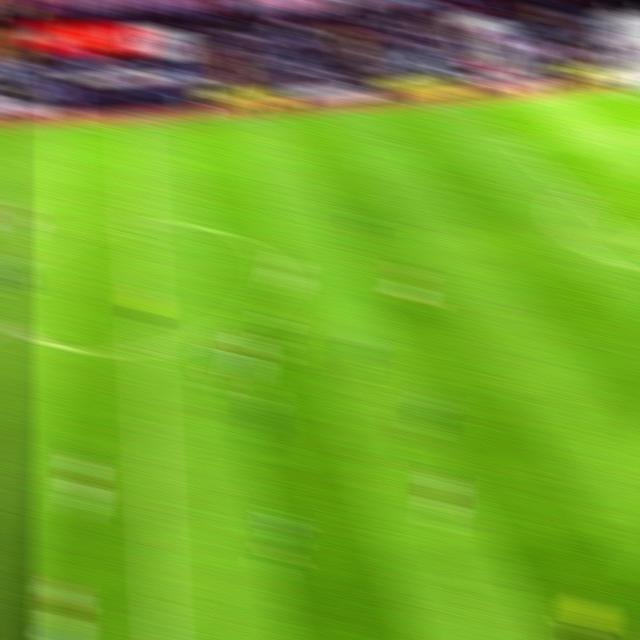bigarea_top_inner: (501, 134, 535, 158)
corner: (596, 82, 623, 96)
halfcircle_bottom: (127, 334, 168, 366)
halfcircle_top: (119, 212, 160, 240)
midline_top_intersection: (119, 112, 150, 136)
top_arc_area_intersection: (561, 182, 593, 210)
